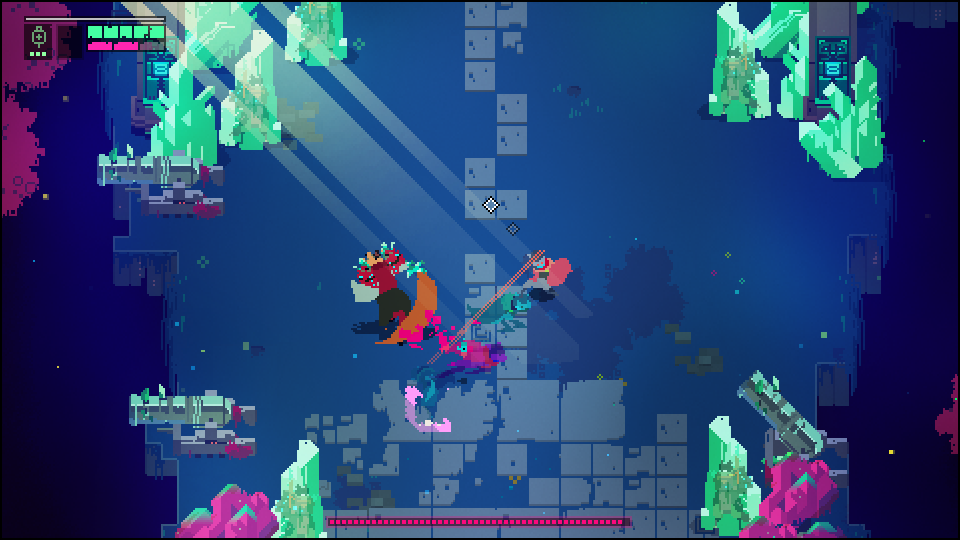hanged_man: (347, 241, 438, 335)
player: (523, 247, 573, 297)
